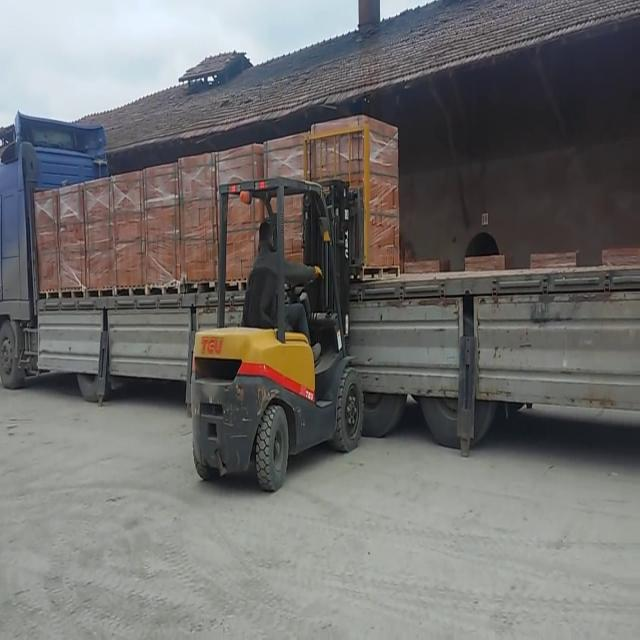Chariot elevateur: (186, 168, 370, 498)
